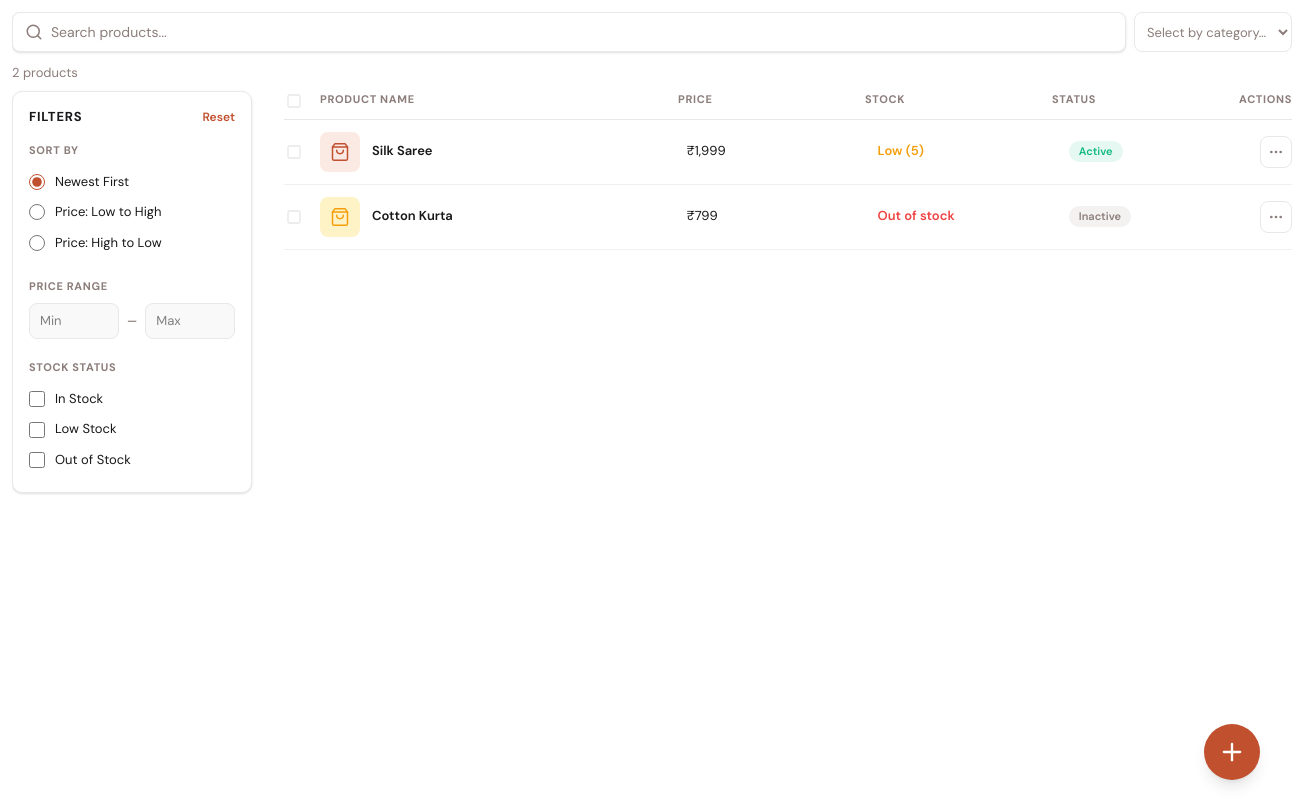
Test case: AdminProductsClient › filters products by the search box
Type "silk" into the field with placeholder "Search products...". click: {"x": 582, "y": 32}
box: [51,22,1113,42]
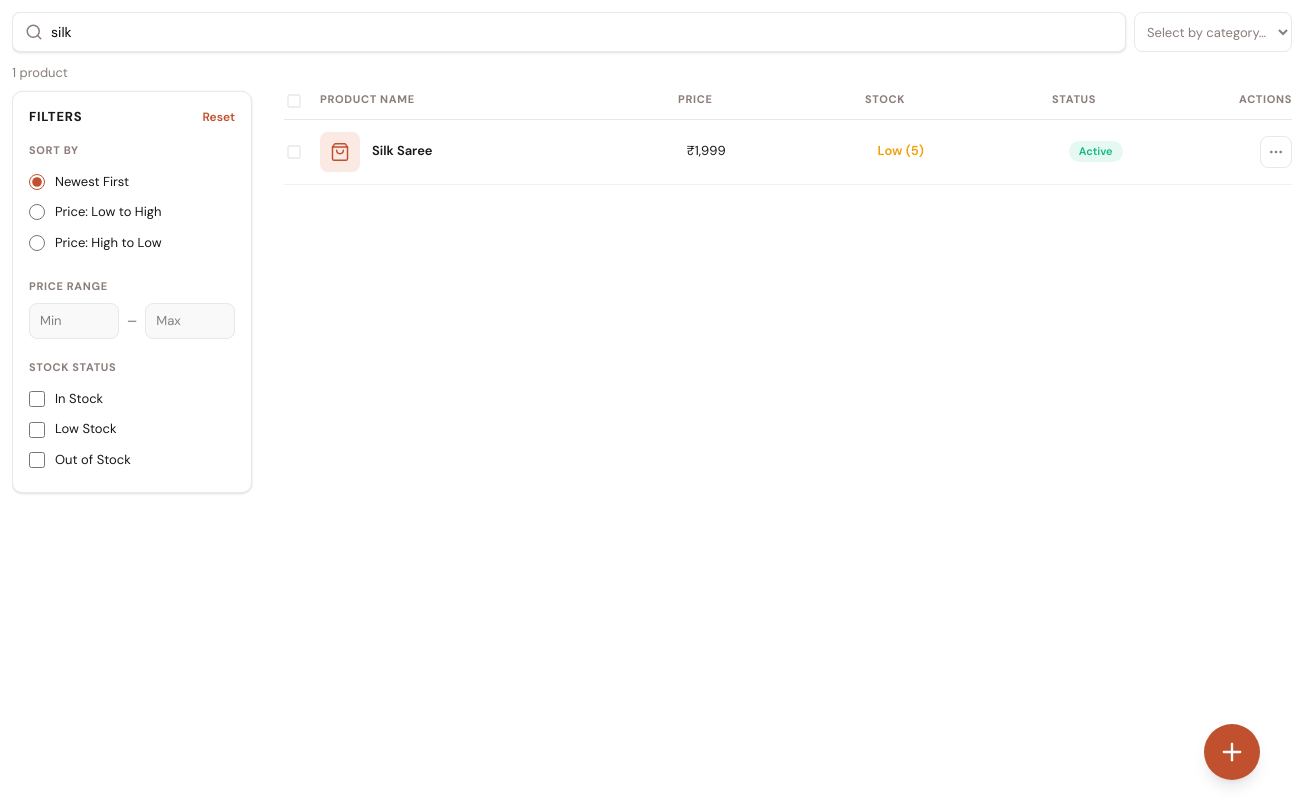
Check: the text "Silk Saree" is shown, box [372,142,432,161]
Check: the text "Cotton Kurta" is gone
Check: the text "1 product" is shown, box [12,64,68,83]
